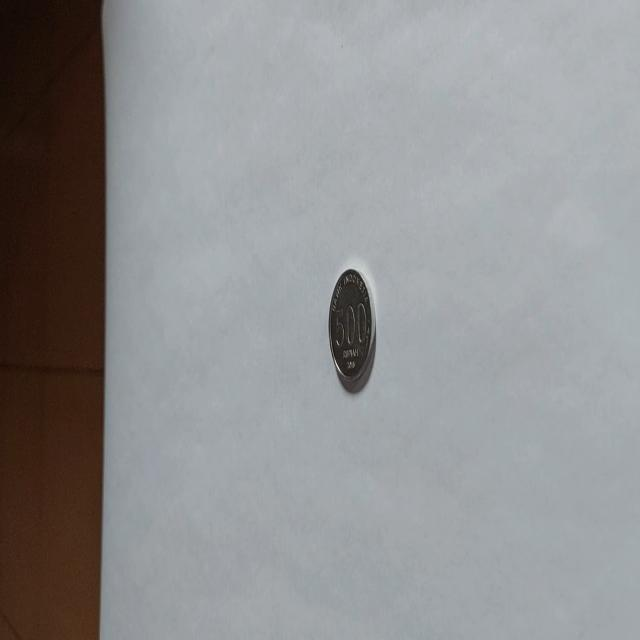lima ratus rupiah: (327, 266, 376, 393)
